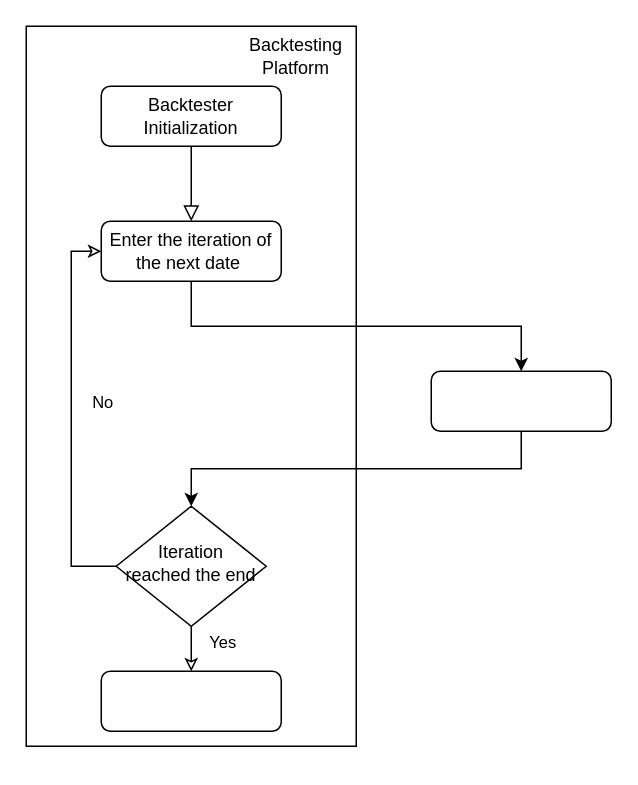
Some shapes in this 638 by 785 pixel diagram are drawn without their labels. The centre of each missing label's shape, as x and y in pixels:
"Compute Statistics" goes at pixel 190 700.
"Run trading strategy" goes at pixel 520 400.
